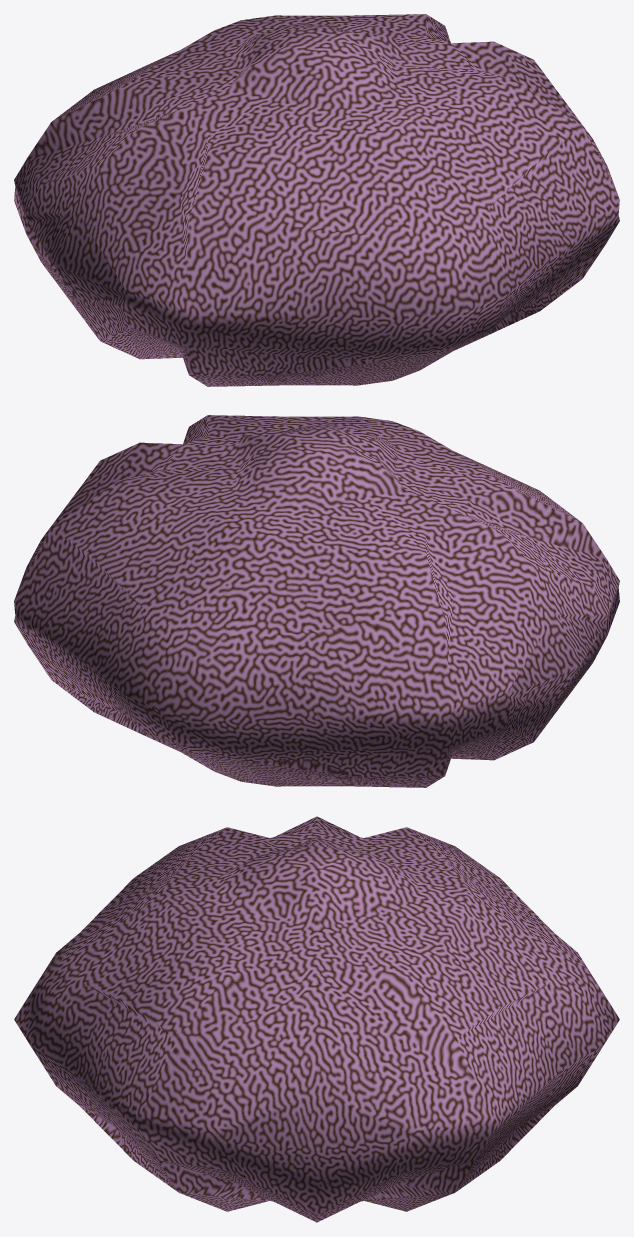
File: brain_coral_2.2.glb
3 renders of one model, top to bottom at view 1: azimuth 30°, elevation 25°; view 2: azimuth 150°, elevation 25°; view 3: azimuth 270°, elevation 25°, orthographic.
Visible parts, largest first — view 1: brain3_now2; view 2: brain3_now2; view 3: brain3_now2.
Part boxes in pixels (left/top/right/bottom): brain3_now2: left=14, top=14, right=619, bottom=386; brain3_now2: left=14, top=415, right=619, bottom=787; brain3_now2: left=14, top=816, right=619, bottom=1222.
Size of the model in its own units: 9.42 by 5.35 by 9.33.
Materials: 1 (1 with a texture image).
